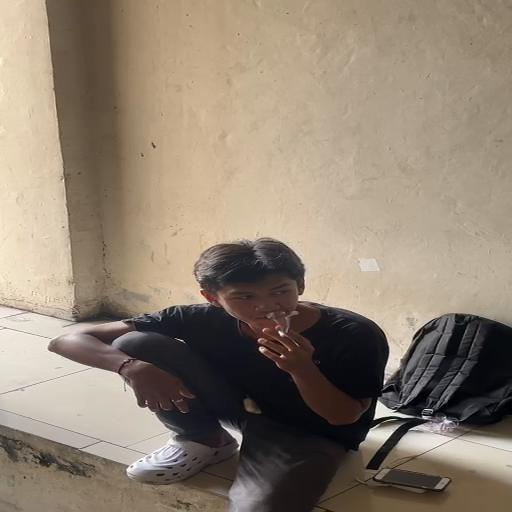asap rokok: (231, 277, 312, 342)
